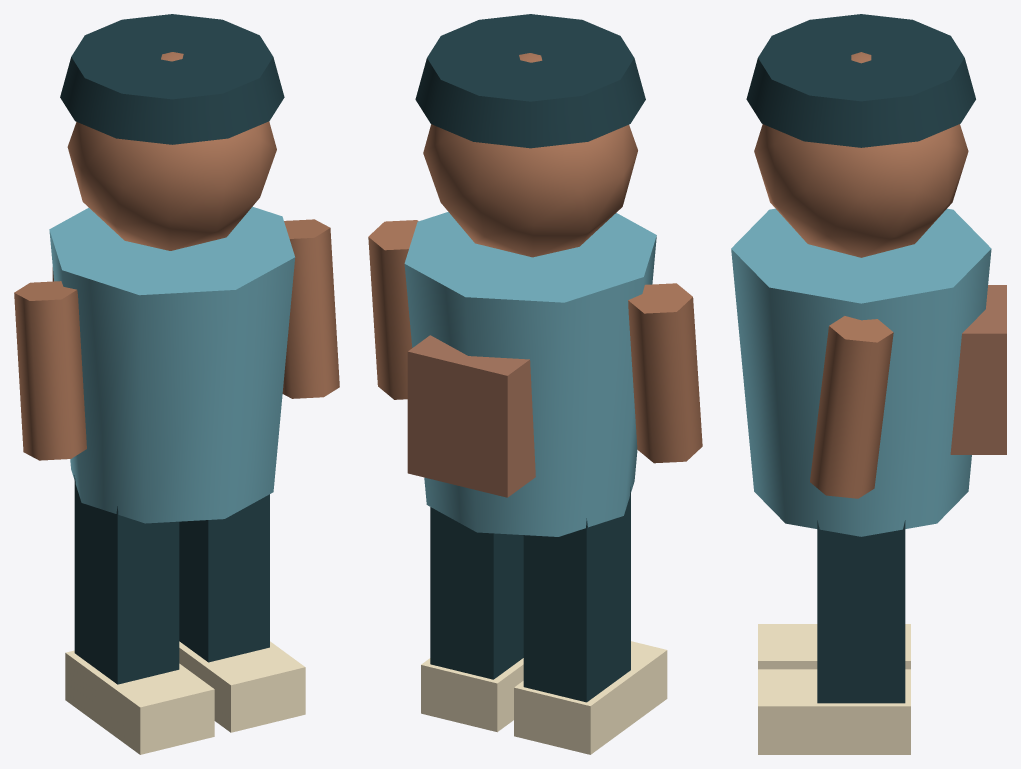
File: guest_b.glb
3 renders of one model, left to right at view 1: azimuth 30°, elevation 25°; view 2: azimuth 150°, elevation 25°; view 3: azimuth 270°, elevation 25°, orthographic. The views are drawn at different scales.
Parts seen in each view (by area): view 1: guest_b; view 2: guest_b; view 3: guest_b.
Boxes of the visible parts, bbox=[...] form: guest_b: bbox=[14, 14, 339, 754]; guest_b: bbox=[368, 14, 702, 754]; guest_b: bbox=[731, 14, 1006, 754].
Bounding box in the file's own units: 0.9272 × 1.9 × 0.72.
